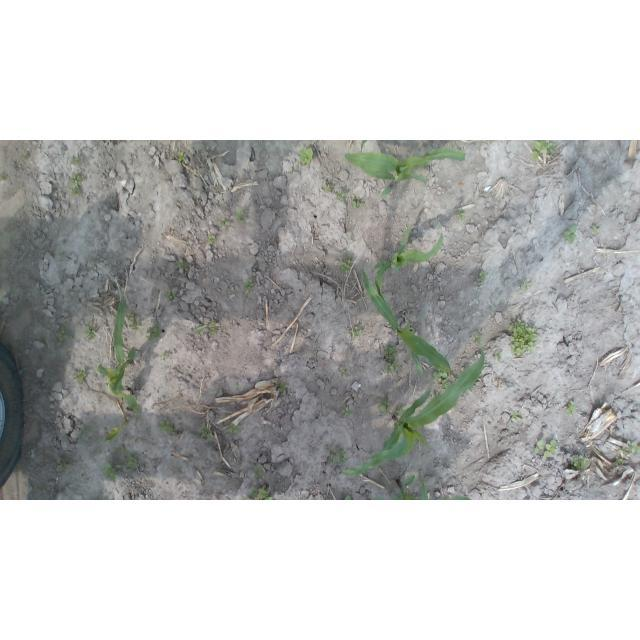Maize: (341, 348, 485, 476), (362, 269, 459, 379), (344, 149, 466, 198), (373, 224, 443, 297), (98, 297, 140, 412), (401, 474, 414, 498), (423, 471, 430, 500), (432, 496, 470, 500), (360, 140, 369, 150), (344, 494, 353, 500), (370, 498, 384, 500)
Weeds: (509, 319, 540, 355), (532, 140, 553, 158), (561, 224, 577, 244), (245, 489, 273, 500), (330, 446, 347, 463), (104, 462, 120, 480), (69, 173, 82, 195), (386, 347, 397, 373), (570, 455, 590, 469), (543, 440, 558, 458), (377, 396, 392, 413), (300, 148, 313, 165), (130, 313, 143, 329), (75, 368, 88, 384), (433, 370, 447, 384), (236, 206, 246, 221), (148, 327, 163, 337), (56, 330, 68, 342), (510, 413, 523, 424), (351, 198, 365, 208), (193, 325, 208, 334), (628, 441, 640, 452), (341, 258, 352, 270), (337, 187, 346, 201), (128, 457, 139, 468), (564, 401, 574, 413), (533, 439, 543, 451), (36, 485, 49, 494), (209, 321, 216, 336), (480, 268, 487, 283), (277, 381, 286, 392), (216, 218, 229, 225), (85, 331, 95, 340), (217, 384, 224, 396), (1, 172, 10, 181), (163, 352, 172, 361), (615, 457, 624, 466), (157, 419, 167, 427), (21, 151, 30, 159), (70, 157, 78, 166), (167, 292, 176, 300), (456, 211, 464, 220), (177, 151, 184, 161), (228, 425, 238, 432), (353, 326, 360, 336), (245, 279, 254, 286), (202, 429, 209, 438), (208, 236, 216, 243), (255, 468, 262, 476), (340, 369, 348, 376), (177, 263, 184, 270), (326, 185, 333, 192), (474, 336, 481, 343), (167, 425, 173, 433), (441, 380, 447, 388), (326, 446, 335, 451), (343, 407, 349, 414), (120, 445, 126, 452), (592, 225, 598, 232), (495, 355, 502, 361), (486, 140, 494, 144), (40, 336, 45, 341)
